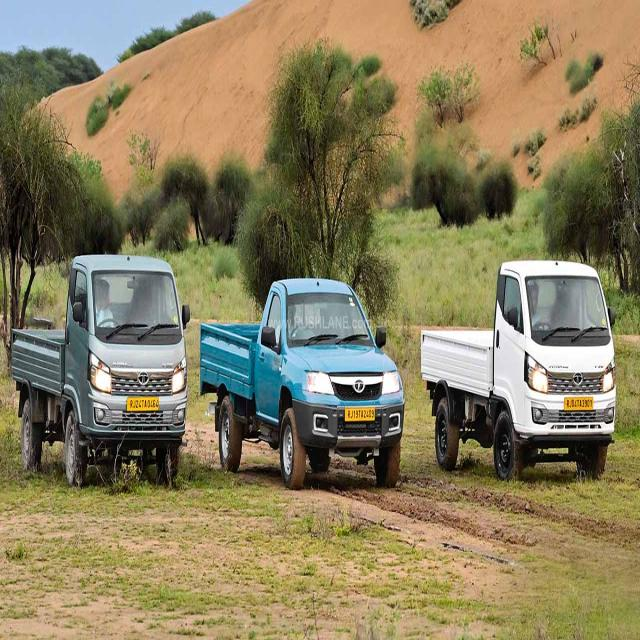light_vehicle: (204, 266, 403, 498), (420, 261, 612, 485), (10, 257, 185, 478)
